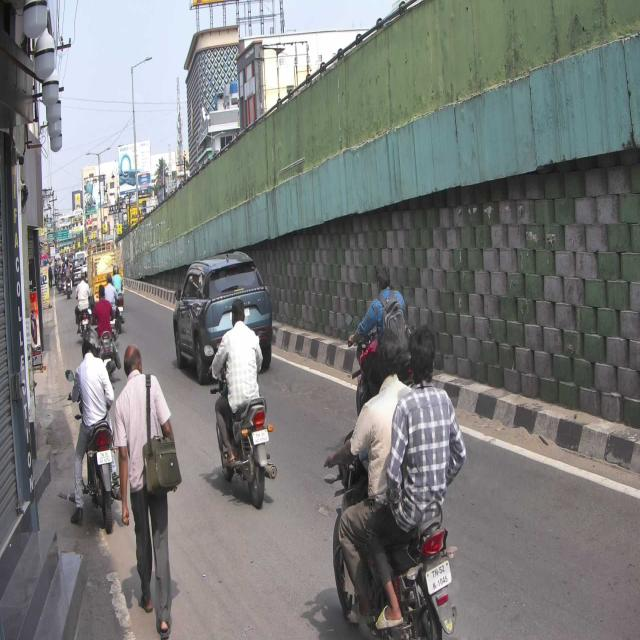double_rider: (324, 326, 466, 640)
single_rider: (205, 295, 279, 510)
